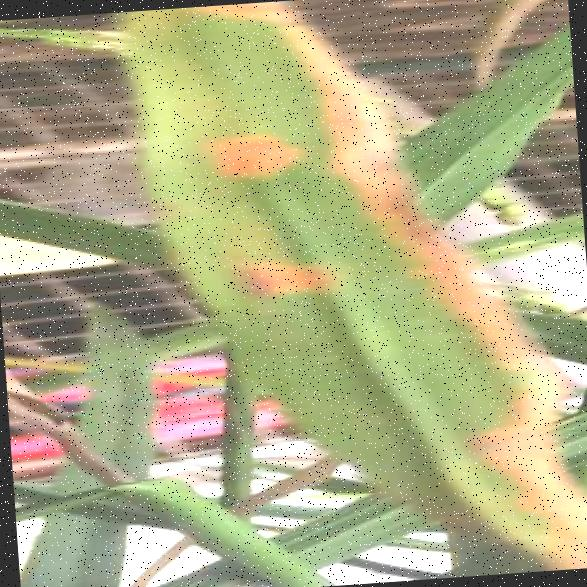Bacteria_Leaf_Blight: (142, 0, 510, 562)
